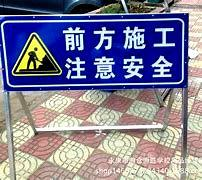sign: (1, 15, 183, 86)
